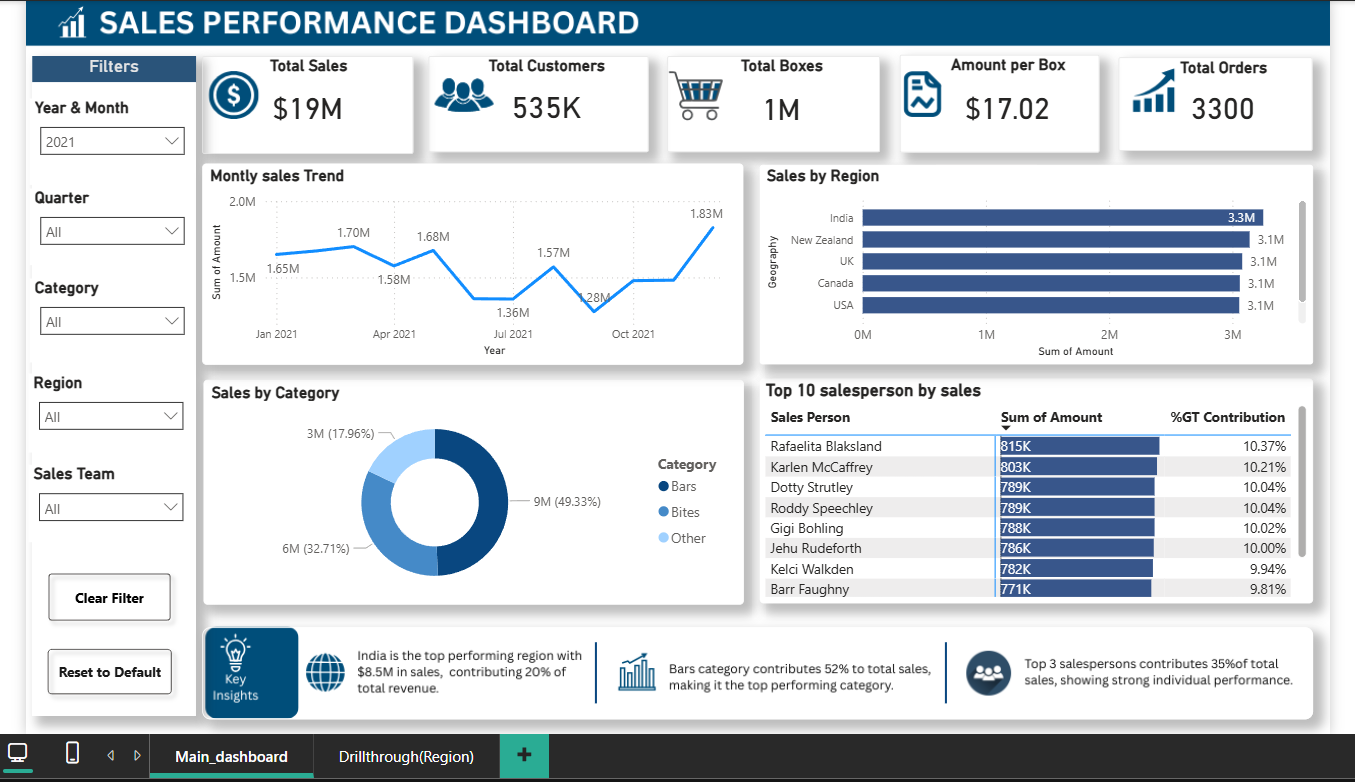

The page's visual inventory and layout, read from the dashboard file:
{"tool":"powerbi","page":{"name":"Main_dashboard","canvas":[1280,720],"ordinal":0},"visuals":[{"type":"shape","title":"Filters","box":[6.1,54,160.7,647.9],"z":0},{"type":"card","title":"Total Sales","fields":{"Values":["sales.Total_amt"]},"box":[173,54,207.4,95.7],"z":1000},{"type":"card","title":"Total Customers","fields":{"Values":["sales.Total_customers"]},"box":[395.1,54,216,94.5],"z":2000},{"type":"slicer","title":"Year & Month","fields":{"Values":["sales.Date.Variation.Date Hierarchy.Year","sales.Date.Variation.Date Hierarchy.Month","sales.Date.Variation.Date Hierarchy.Day"]},"box":[3.7,95.7,162,84.7],"z":3000},{"type":"slicer","title":"Quarter","fields":{"Values":["sales.Date.Variation.Date Hierarchy.Quarter"]},"box":[3.7,184.1,162,74.8],"z":4000},{"type":"card","title":"Total Boxes","fields":{"Values":["sales.Total_boxes"]},"box":[629.5,54,208.6,94.5],"z":5000},{"type":"card","title":"Amount per Box","fields":{"Values":["sales.Amt_per_box"]},"box":[857.7,52.8,196.3,95.7],"z":6000},{"type":"slicer","title":"Region","fields":{"Values":["sales.Geography"]},"box":[2.5,365.6,162,77.3],"z":7000},{"type":"card","title":"Total Orders","fields":{"Values":["sales.Total_orders"]},"box":[1072.4,55.2,190.2,92],"z":8000},{"type":"slicer","title":"Category","fields":{"Values":["products.Category"]},"box":[3.7,272.4,162,82.2],"z":9000},{"type":"slicer","title":"Sales Team","fields":{"Values":["people.Team"]},"box":[2.5,455.2,162,76.1],"z":10000},{"type":"actionButton","box":[12.3,552.2,139.9,66.3],"z":11000},{"type":"donutChart","title":"Sales by Category","fields":{"Category":["products.Category"],"Y":["Sum(sales.Amount)"],"Series":["products.Category"]},"box":[174.2,371.8,530.1,220.9],"z":12000},{"type":"pivotTable","title":"Top 10 salesperson by sales","fields":{"Rows":["sales.Sales Person"],"Values":["Sum(sales.Amount)","sales.Contribution"]},"box":[720.4,370.5,543.4,220.9],"z":13000},{"type":"lineChart","title":"Montly sales Trend","fields":{"Y":["Sum(sales.Amount)"],"Category":["sales.Date.Variation.Date Hierarchy.Year","sales.Date.Variation.Date Hierarchy.Month"]},"box":[173,159.5,531.3,197.5],"z":14000},{"type":"actionButton","box":[893.3,160.7,99.4,40.5],"z":15000},{"type":"shape","box":[172.9,614.3,1090,90],"z":16000},{"type":"barChart","title":"Sales by Region","fields":{"Category":["sales.Geography"],"Y":["Sum(sales.Amount)"]},"box":[720.2,160.7,543.6,196.3],"z":17000},{"type":"shape","box":[525.7,630,68.6,60],"z":18000},{"type":"shape","box":[868.6,630,68.6,60],"z":19000},{"type":"actionButton","box":[12.3,627,139.9,62.6],"z":20000}]}

Visuals, with their boxes on the page's 1280x720 design canvas (x1, y1, x2, y2). These are canvas units, not pixel positions in the 1355x782 screenshot, which may show the page scaled, cropped or inside an application window:
"Filters" shape: (6,54,167,702)
"Total Sales" card: (173,54,380,150)
"Total Customers" card: (395,54,611,148)
"Year & Month" slicer: (4,96,166,180)
"Quarter" slicer: (4,184,166,259)
"Total Boxes" card: (630,54,838,148)
"Amount per Box" card: (858,53,1054,148)
"Region" slicer: (2,366,164,443)
"Total Orders" card: (1072,55,1263,147)
"Category" slicer: (4,272,166,355)
"Sales Team" slicer: (2,455,164,531)
actionButton: (12,552,152,618)
"Sales by Category" donutChart: (174,372,704,593)
"Top 10 salesperson by sales" pivotTable: (720,370,1264,591)
"Montly sales Trend" lineChart: (173,160,704,357)
actionButton: (893,161,993,201)
shape: (173,614,1263,704)
"Sales by Region" barChart: (720,161,1264,357)
shape: (526,630,594,690)
shape: (869,630,937,690)
actionButton: (12,627,152,690)
